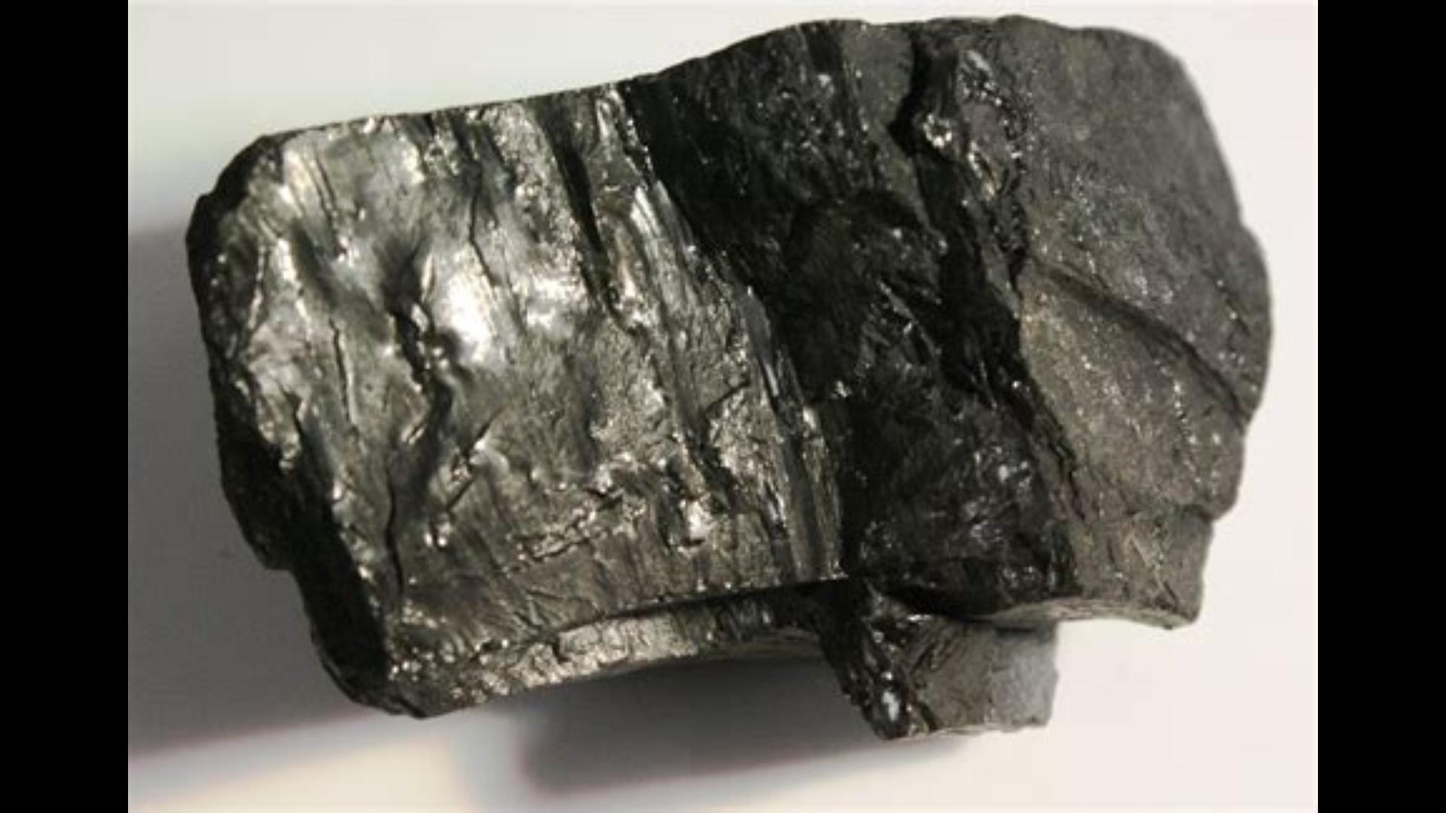rock: (188, 18, 1263, 733)
